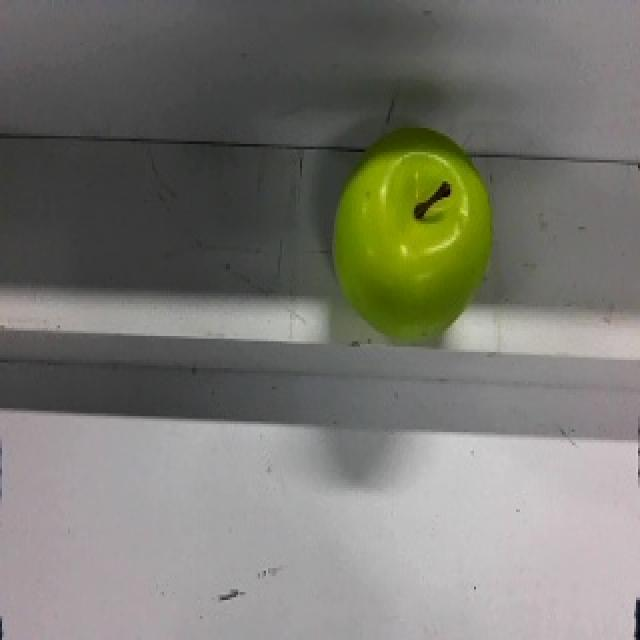apple: (332, 124, 495, 347)
